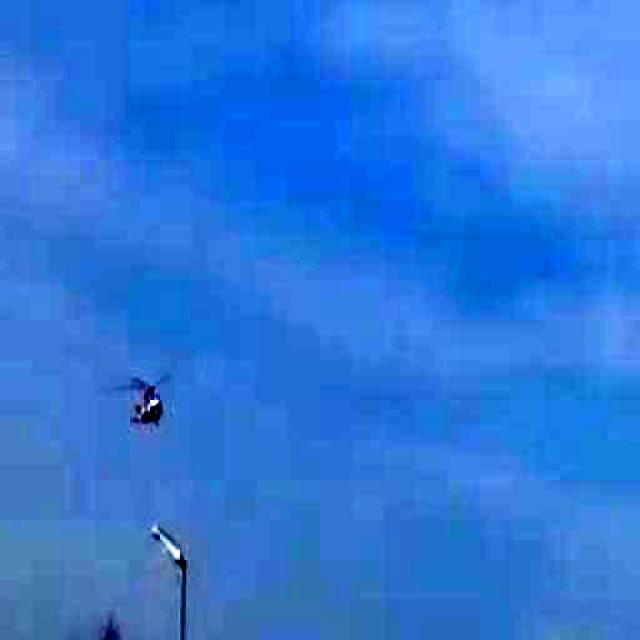drone: (102, 359, 191, 435)
